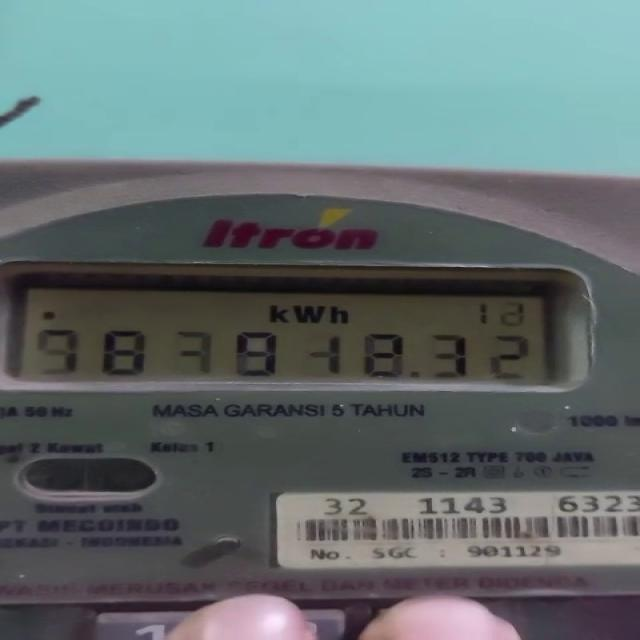LCD: (11, 268, 576, 389)
